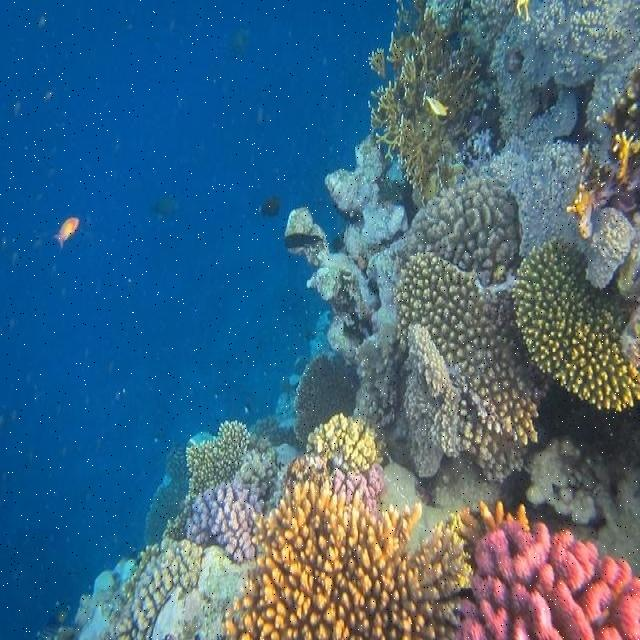aquatic plants: (369, 2, 481, 198)
fish: (49, 219, 78, 251)
reefs: (429, 0, 639, 289), (227, 481, 530, 639), (397, 254, 550, 482), (454, 523, 639, 639), (517, 247, 640, 409), (410, 171, 522, 274), (309, 415, 383, 518), (188, 483, 268, 562)
